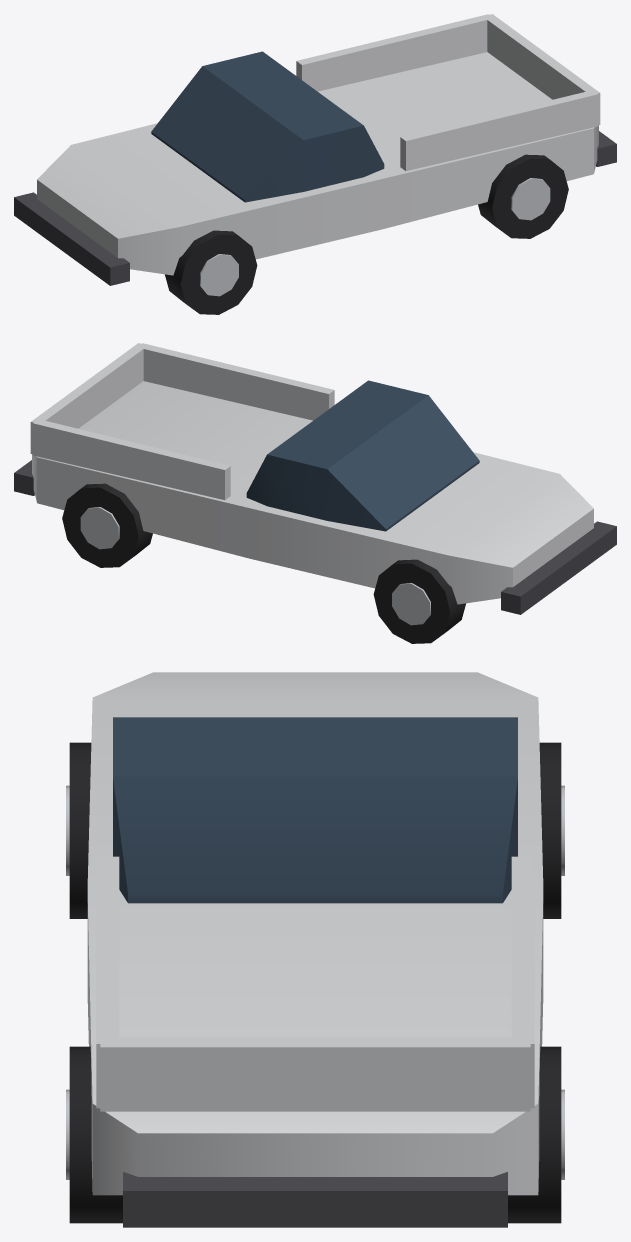
The model's file is car_pickup_white.fbx.
3 renders of one model, top to bottom at view 1: azimuth 30°, elevation 25°; view 2: azimuth 150°, elevation 25°; view 3: azimuth 270°, elevation 25°, orthographic. The views are drawn at different scales.
Visible parts, largest first — view 1: Body, Wheel_FR, Wheel_RR; view 2: Body, Wheel_FL, Wheel_RL; view 3: Body, Wheel_RL, Wheel_RR, Wheel_FL, Wheel_FR.
Boxes of the visible parts, x1,y1,x2,y2 form: Body: (14,14,616,285); Wheel_FR: (165,230,257,314); Wheel_RR: (478,154,568,238); Body: (14,343,616,614); Wheel_FL: (373,559,465,643); Wheel_RL: (62,483,152,567); Body: (87,672,543,1227); Wheel_RL: (508,1046,564,1223); Wheel_RR: (66,1046,122,1223); Wheel_FL: (539,742,564,918); Wheel_FR: (66,742,91,918).
Bounding box in the file's own units: 4.62 × 1.25 × 1.97.
